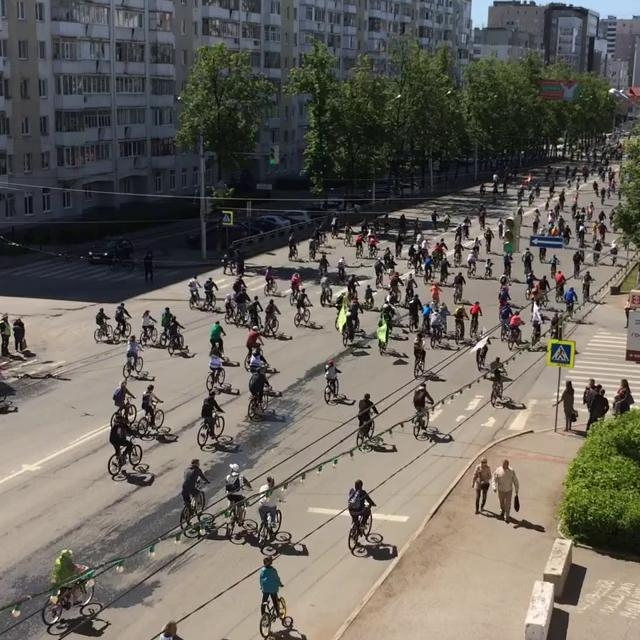bicycle: (41, 576, 103, 628), (179, 482, 213, 538), (348, 504, 383, 554), (257, 506, 292, 552), (225, 496, 258, 542), (259, 594, 292, 639), (107, 438, 143, 476), (196, 410, 225, 448), (356, 412, 383, 451), (136, 400, 164, 434), (246, 388, 272, 421), (411, 404, 434, 440), (110, 397, 136, 426), (490, 371, 507, 407), (167, 331, 188, 356), (123, 353, 143, 378), (323, 375, 340, 404), (205, 366, 225, 390), (93, 319, 113, 342), (139, 323, 157, 345), (293, 305, 310, 327), (262, 315, 279, 337), (413, 350, 426, 378), (113, 318, 131, 338), (263, 277, 279, 296), (320, 283, 332, 306)
